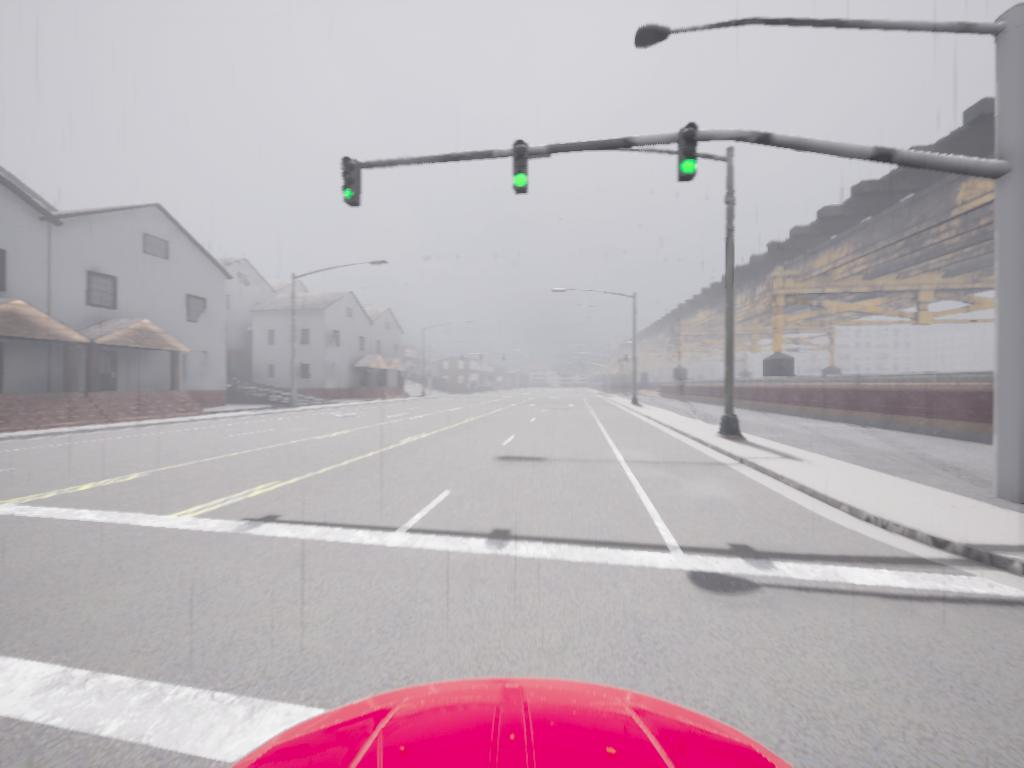traffic_light: (677, 128, 697, 180), (345, 157, 365, 207), (511, 143, 529, 195)
